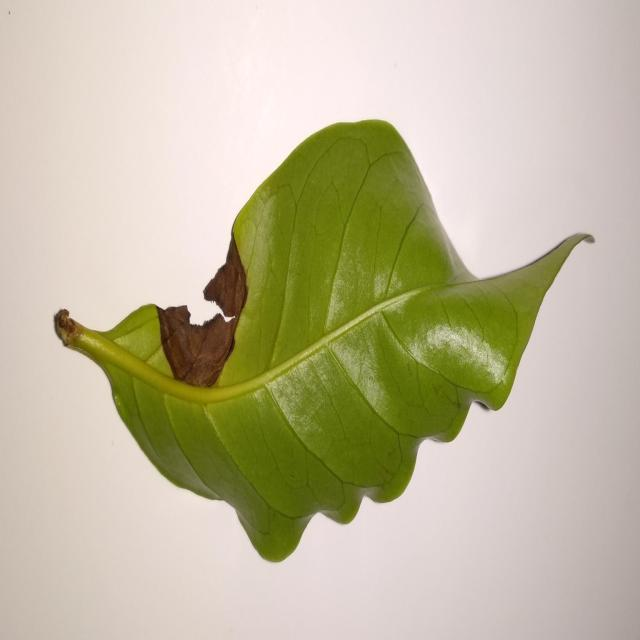Enfermedad-Antracnosis: (52, 120, 594, 566)
